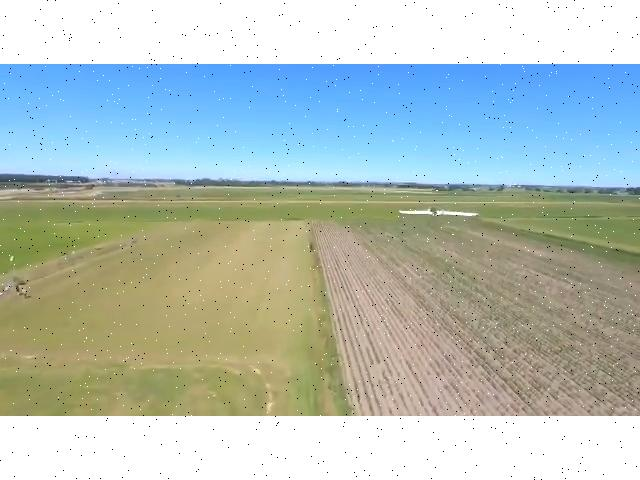Anti-Drone: (386, 188, 494, 245)
